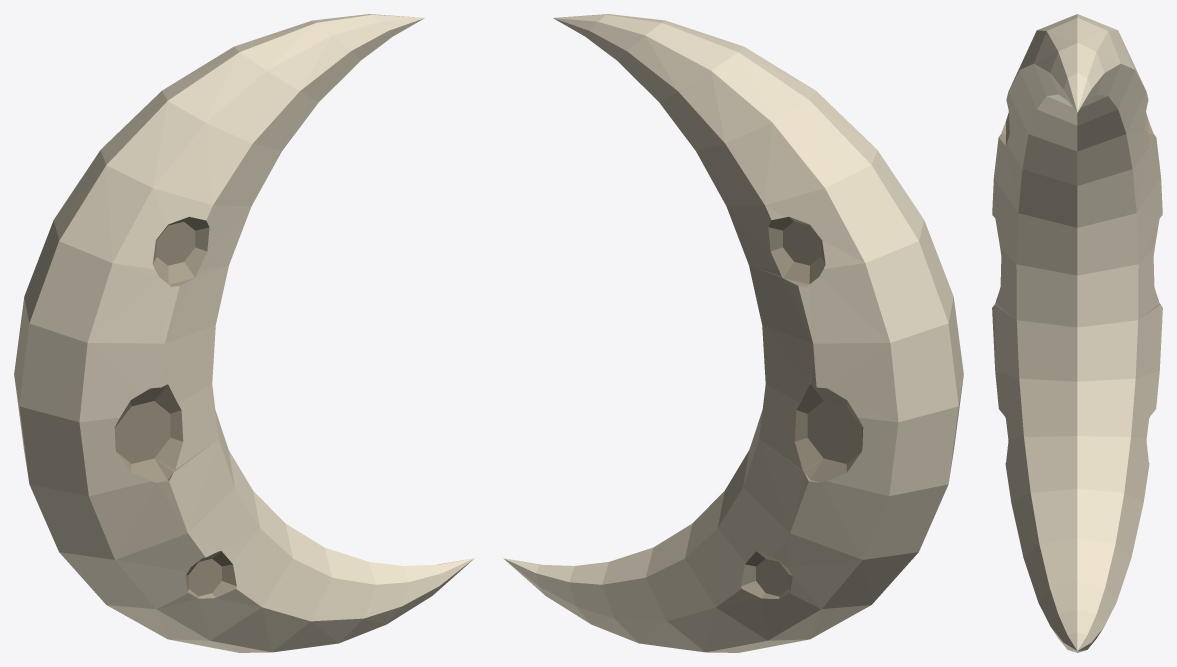
The model's file is KANJI_01_TSUKI.fbx.
The picture shows the model from 3 angles, left to right: view 1: azimuth 30°, elevation 25°; view 2: azimuth 150°, elevation 25°; view 3: azimuth 270°, elevation 25°; orthographic projection. The views are drawn at different scales.
Parts seen in each view (by area): view 1: SM_KANJI_01_Tsuki; view 2: SM_KANJI_01_Tsuki; view 3: SM_KANJI_01_Tsuki.
Part boxes in pixels (x1,y1,x2,y2): SM_KANJI_01_Tsuki: [14, 14, 474, 652]; SM_KANJI_01_Tsuki: [503, 14, 963, 652]; SM_KANJI_01_Tsuki: [992, 14, 1162, 652].
Size of the model in its own units: 0.23 by 0.3 by 0.08.
